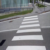zebra: (6, 15, 46, 50)
